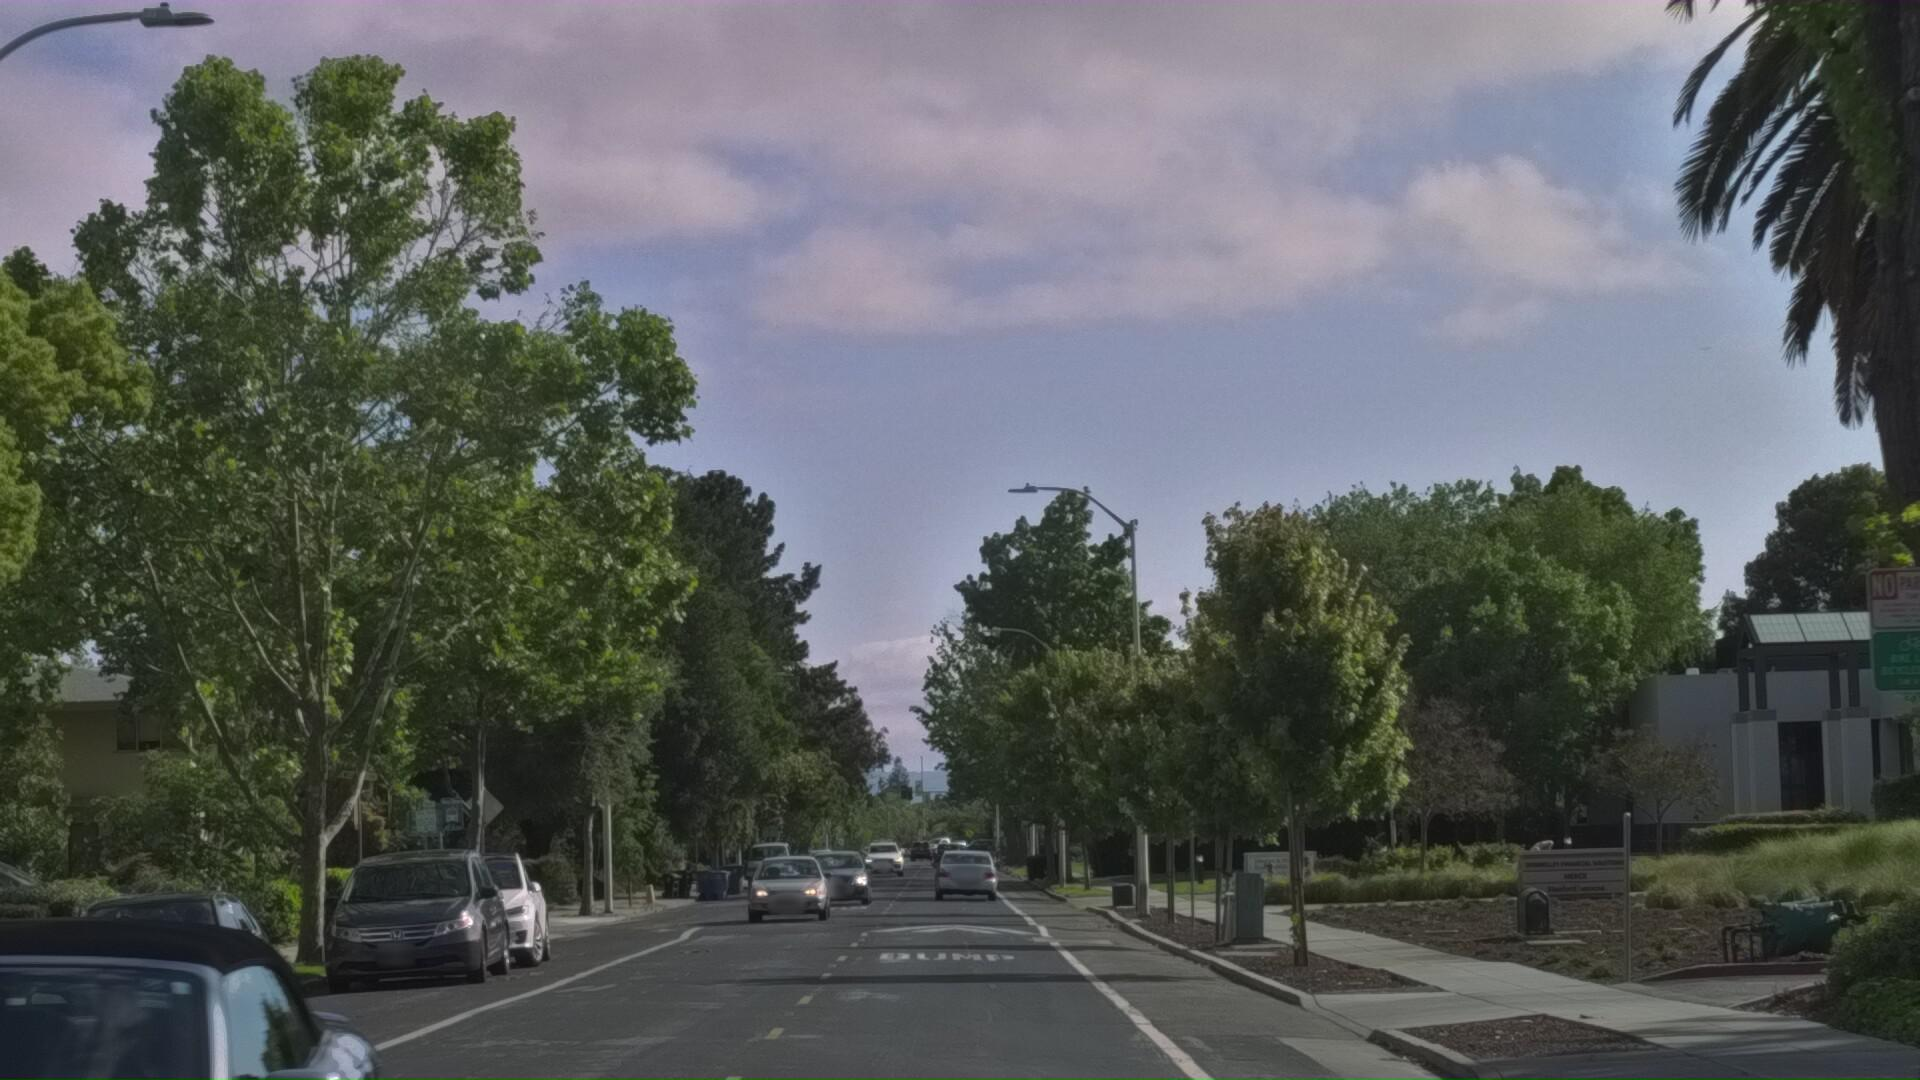car: (0, 872, 410, 1080), (0, 957, 301, 1080), (323, 928, 525, 1080), (390, 934, 556, 1065), (0, 938, 94, 1052), (745, 944, 833, 1019)
